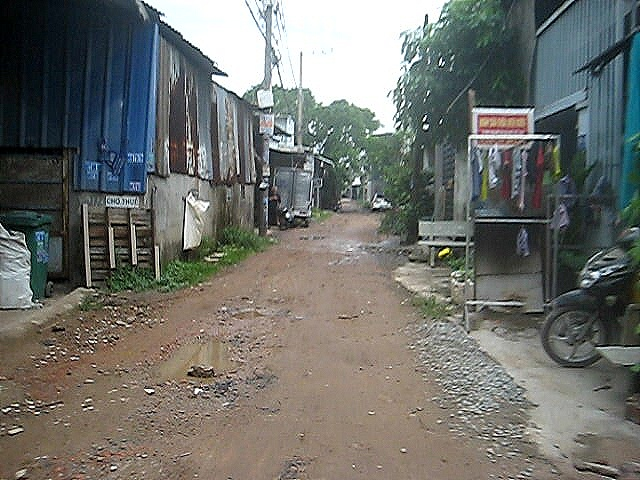hole: (3, 373, 133, 480), (138, 329, 257, 391), (215, 299, 281, 326), (338, 241, 395, 257), (294, 233, 329, 242)
